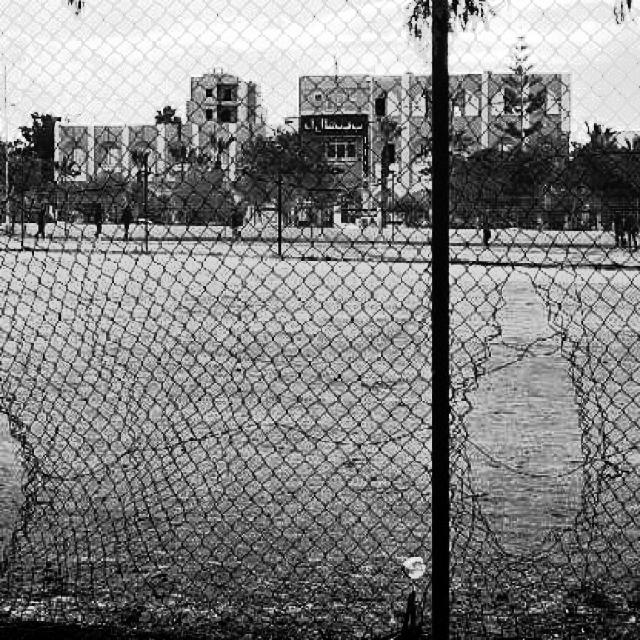anomaly-fence: (450, 225, 640, 619), (0, 346, 108, 608)
